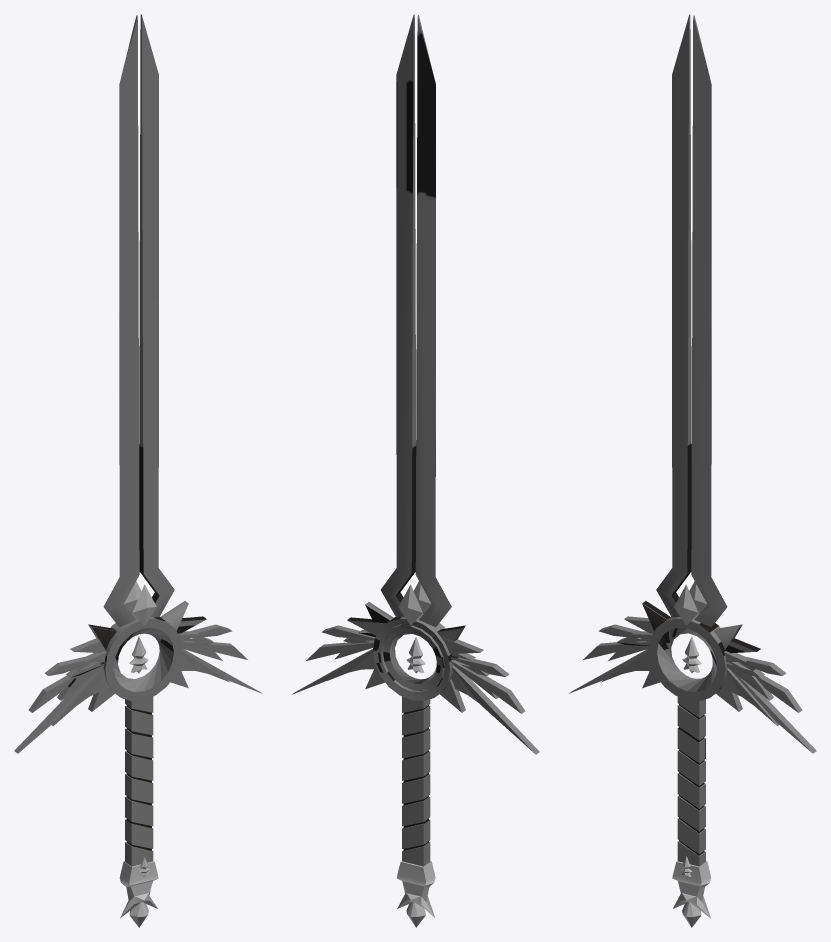
Rendered from Sword.fbx.
3 renders of one model, left to right at view 1: azimuth 30°, elevation 25°; view 2: azimuth 150°, elevation 25°; view 3: azimuth 330°, elevation 25°, orthographic.
Visible parts, largest first — view 1: blade, wings, handle5, pCylinder4, polySurface3, rubi; view 2: blade, wings, handle5, pCylinder4, polySurface3, rubi; view 3: blade, wings, handle5, pCylinder4, polySurface3, rubi.
Boxes of the visible parts, box(x1,y1,x2,y2) form: blade: box(103, 14, 174, 626); wings: box(14, 601, 261, 753); handle5: box(125, 696, 153, 866); pCylinder4: box(100, 613, 182, 701); polySurface3: box(119, 861, 158, 901); rubi: box(123, 581, 156, 625); blade: box(380, 14, 451, 626); wings: box(292, 602, 539, 754); handle5: box(402, 696, 430, 866); pCylinder4: box(373, 613, 453, 701); polySurface3: box(396, 861, 435, 901); rubi: box(398, 581, 431, 625); blade: box(656, 14, 727, 626); wings: box(569, 601, 816, 753); handle5: box(677, 696, 705, 866); pCylinder4: box(648, 613, 730, 701); polySurface3: box(672, 861, 711, 901); rubi: box(674, 581, 707, 625).
Size of the model in its own units: 14.1 by 50.21 by 1.67.
13 materials, 7 textured.
